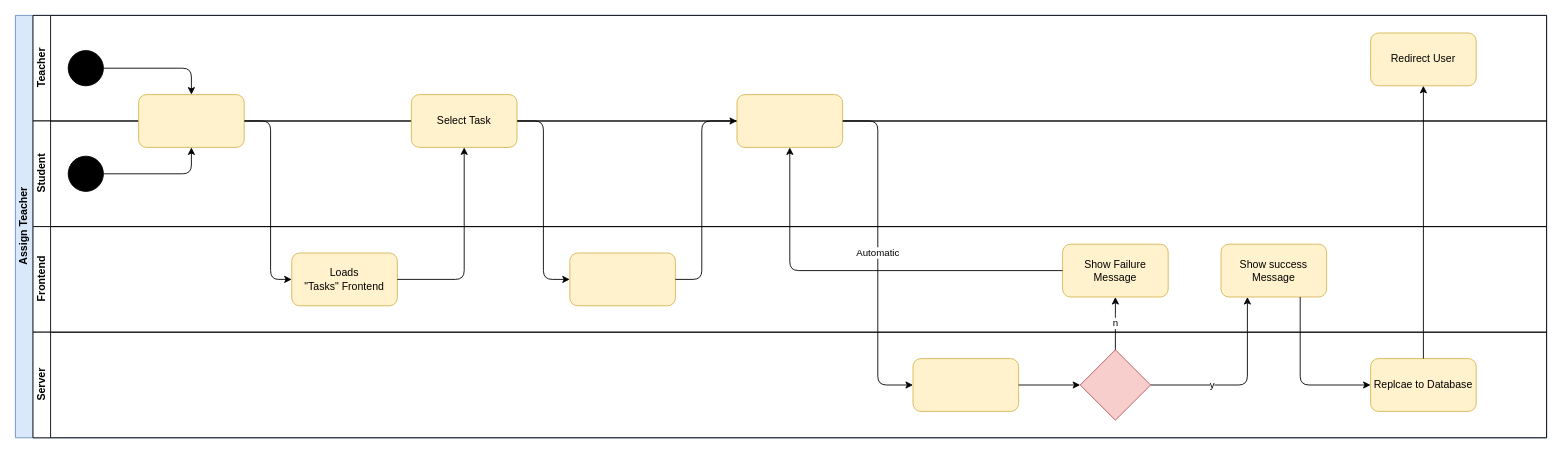
The diagram is 1562 pixels wide and 453 high, and some of its shapes have lost their labels. The centre of each missing label's shape, as x and y in pixels:
Data is valid: point (1115, 384)
Edit Solution for Task: point (789, 120)
Loads specific "Tasks" Frontend: point (622, 279)
Open Task: point (191, 120)
Validate Data: point (965, 384)
